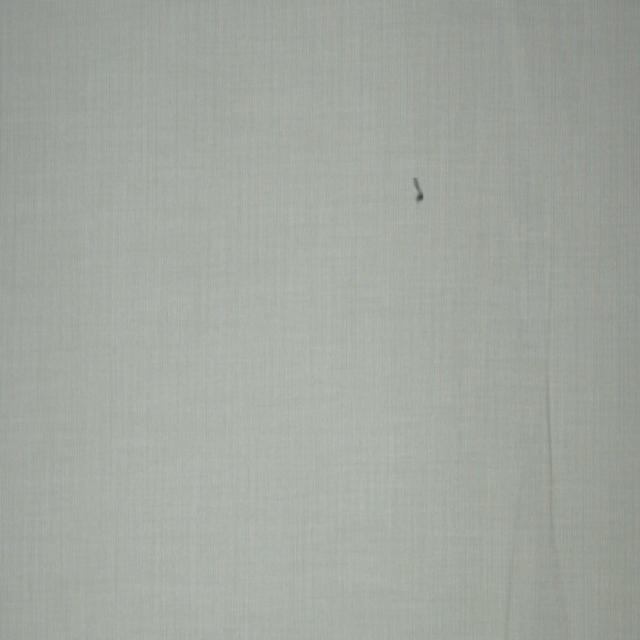dirty: (414, 175, 424, 203)
